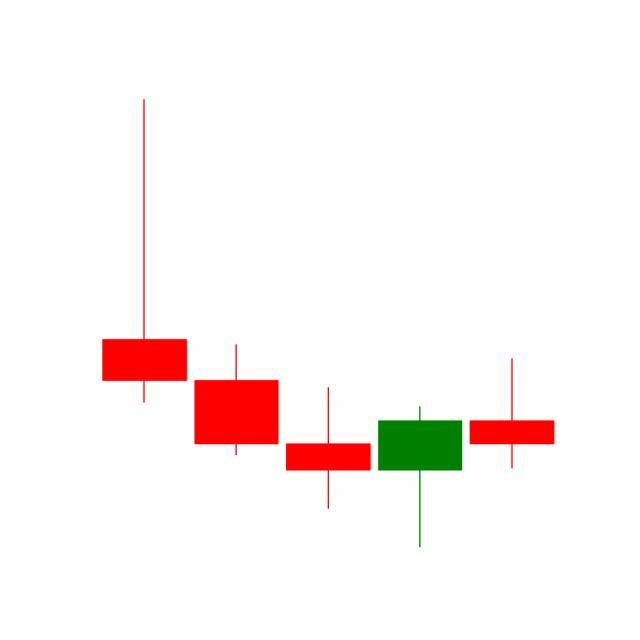Spinning Top: (466, 358, 559, 472)
